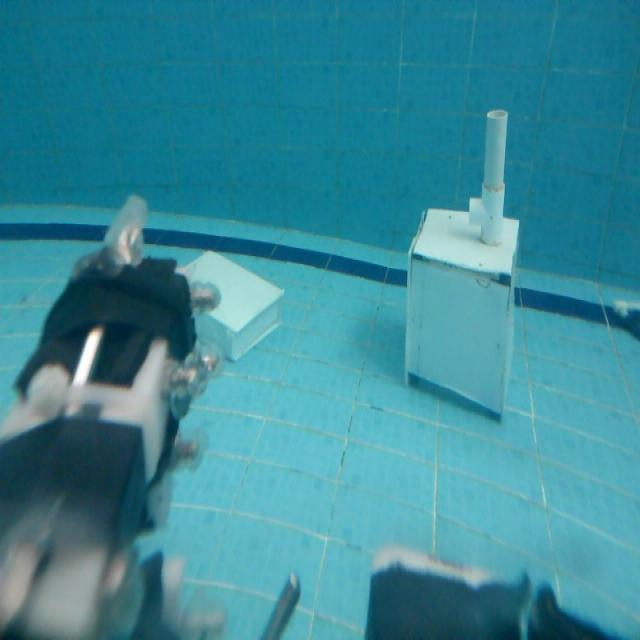Cube: (402, 200, 520, 417)
Cuboid: (174, 246, 285, 362)
